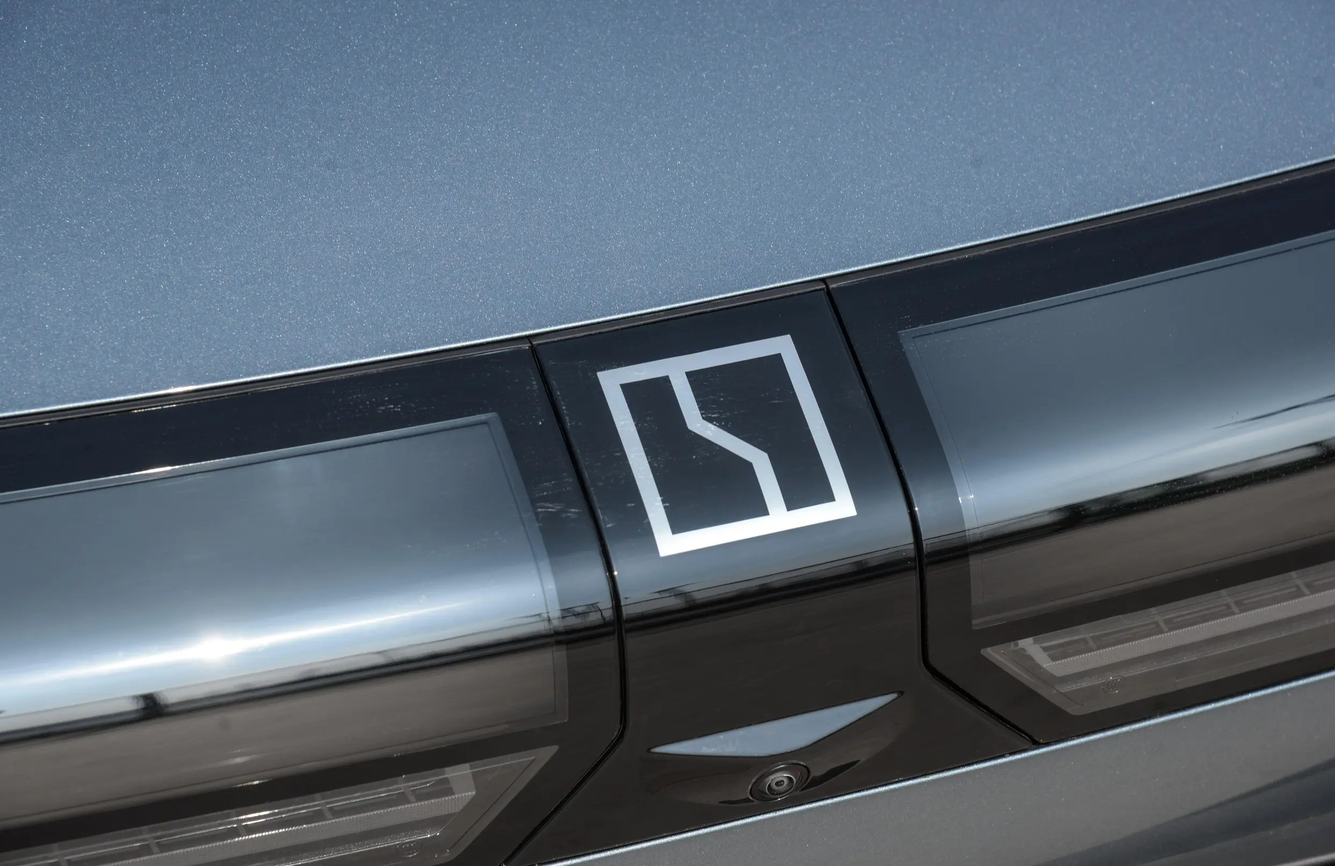ZEEKR: (598, 334, 856, 556)
